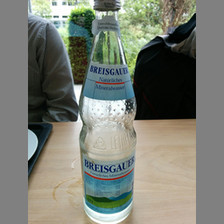water: (79, 1, 139, 224)
